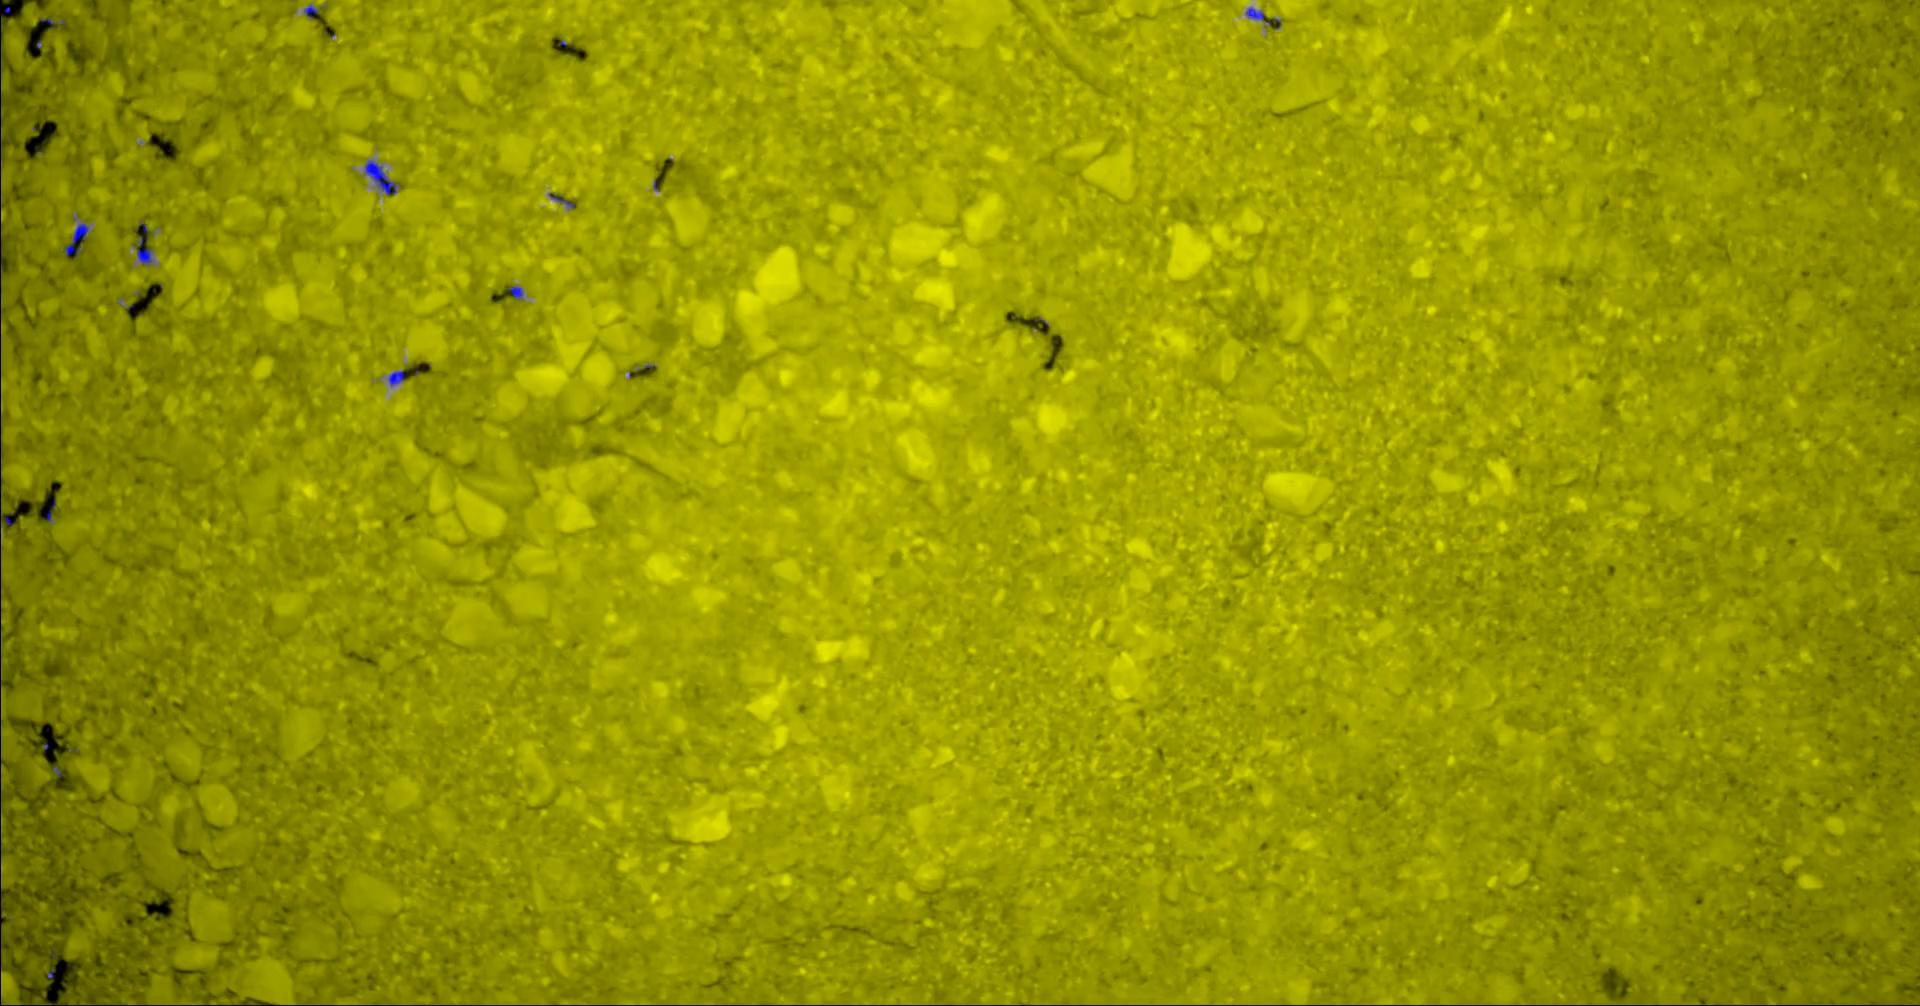ant: (364, 160, 396, 194), (62, 224, 88, 257), (136, 221, 152, 264), (549, 193, 574, 208), (387, 370, 405, 385), (1244, 8, 1263, 19), (303, 4, 317, 18), (508, 286, 522, 298)
